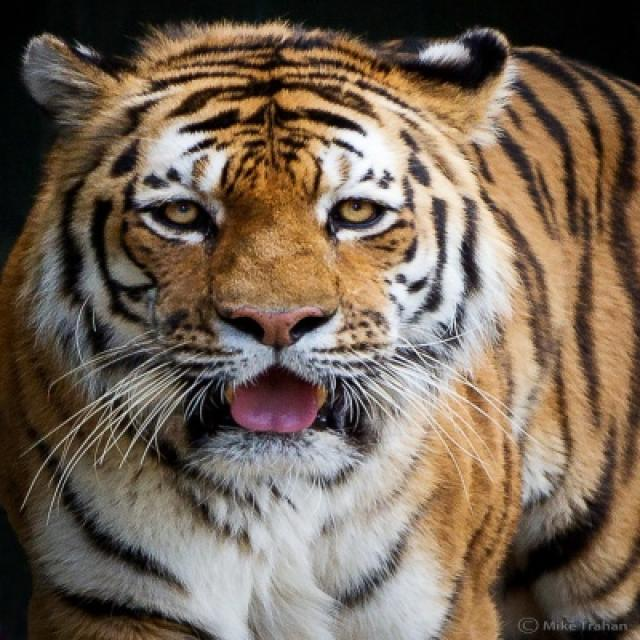Tiger: (4, 20, 638, 633)
